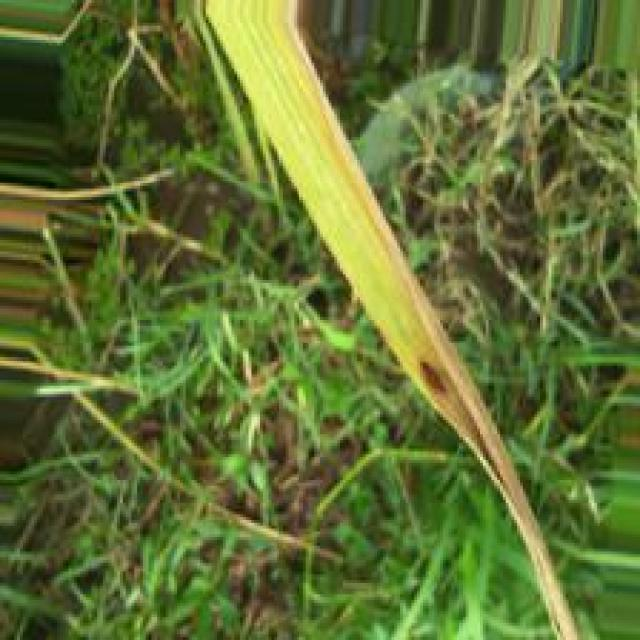Narrow_Brown_Leaf_Spot: (278, 26, 572, 621)
